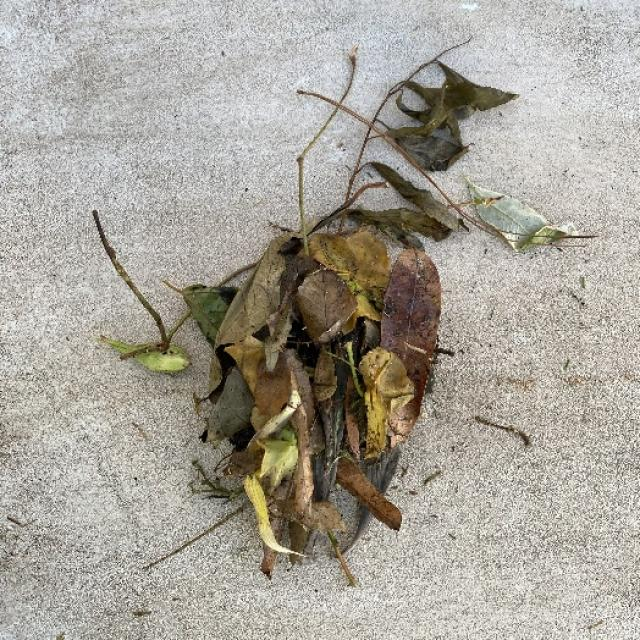organik: (143, 51, 522, 561)
